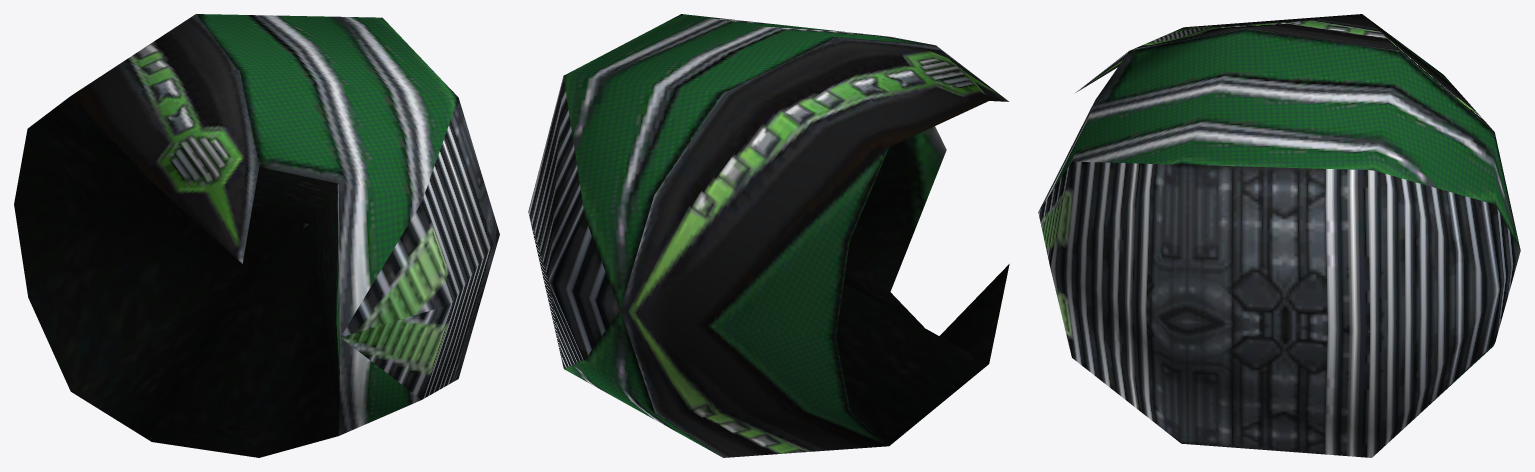
The model's file is Helmet7__VTX.glb.
3 views of the same model, side by side, from view 1: azimuth 30°, elevation 25°; view 2: azimuth 150°, elevation 25°; view 3: azimuth 270°, elevation 25° (orthographic).
Parts seen in each view (by area): view 1: Helmet7; view 2: Helmet7; view 3: Helmet7.
Boxes of the visible parts, x1=… form: Helmet7: x1=14, y1=14, x2=499, y2=457; Helmet7: x1=528, y1=14, x2=1009, y2=457; Helmet7: x1=1038, y1=14, x2=1520, y2=457.
Size of the model in its own units: 11.33 by 11.15 by 13.16.
Materials: 1 (1 with a texture image).
